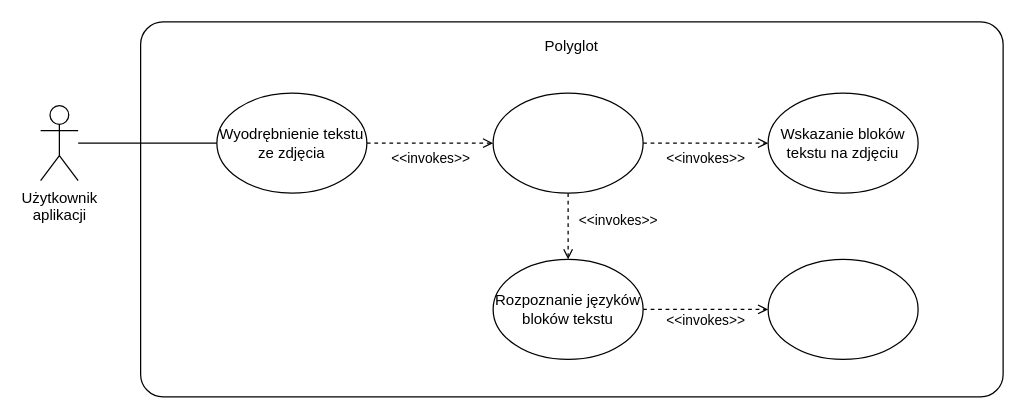
The diagram is 1025 pixels wide and 419 high, and some of its shapes have lost their labels. The shapes that lost their labels are listed below. From the top down, each one's centre as x and y in pixels, then its label:
At (567,142): "Podział tekstu na bloki".
At (842,308): "Tłumaczenie bloków tekstu".
